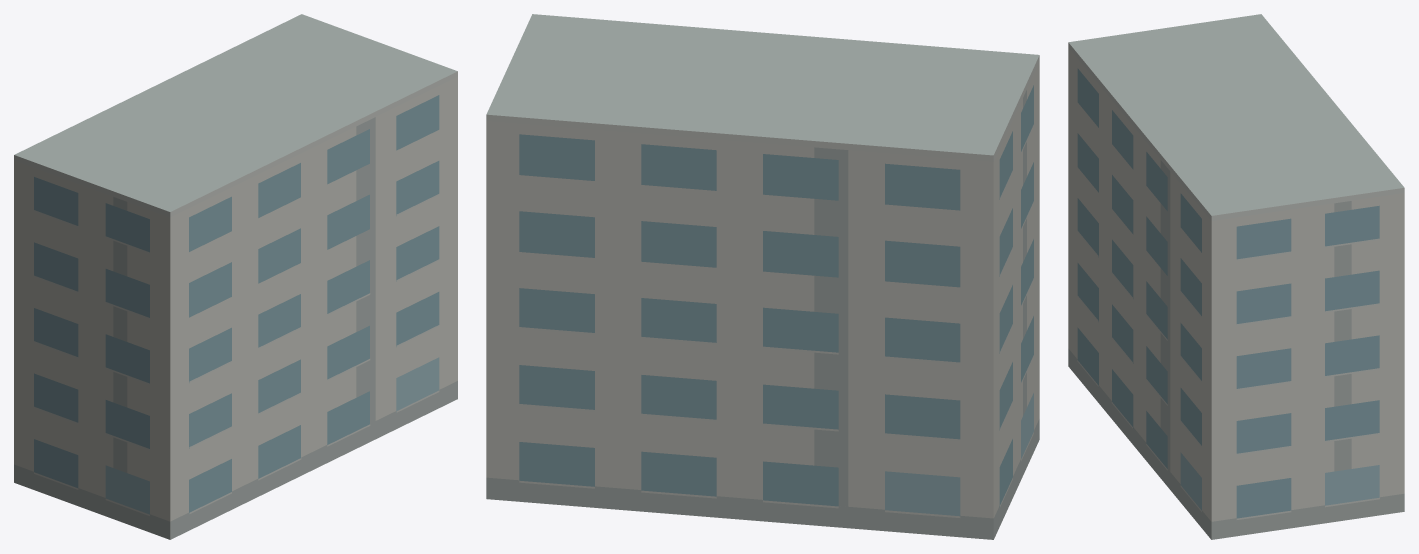
The model's file is survey-upis-32950665.glb.
3 renders of one model, left to right at view 1: azimuth 30°, elevation 25°; view 2: azimuth 150°, elevation 25°; view 3: azimuth 270°, elevation 25°, orthographic. The views are drawn at different scales.
Parts seen in each view (by area): view 1: survey-upis-32950665.tmp; view 2: survey-upis-32950665.tmp; view 3: survey-upis-32950665.tmp.
Boxes of the visible parts, box(x1,y1,x2,y2) form: survey-upis-32950665.tmp: box(14, 14, 457, 539); survey-upis-32950665.tmp: box(486, 14, 1039, 539); survey-upis-32950665.tmp: box(1068, 14, 1404, 539).
Bounding box in the file's own units: 19.59 × 14.65 × 13.79.
